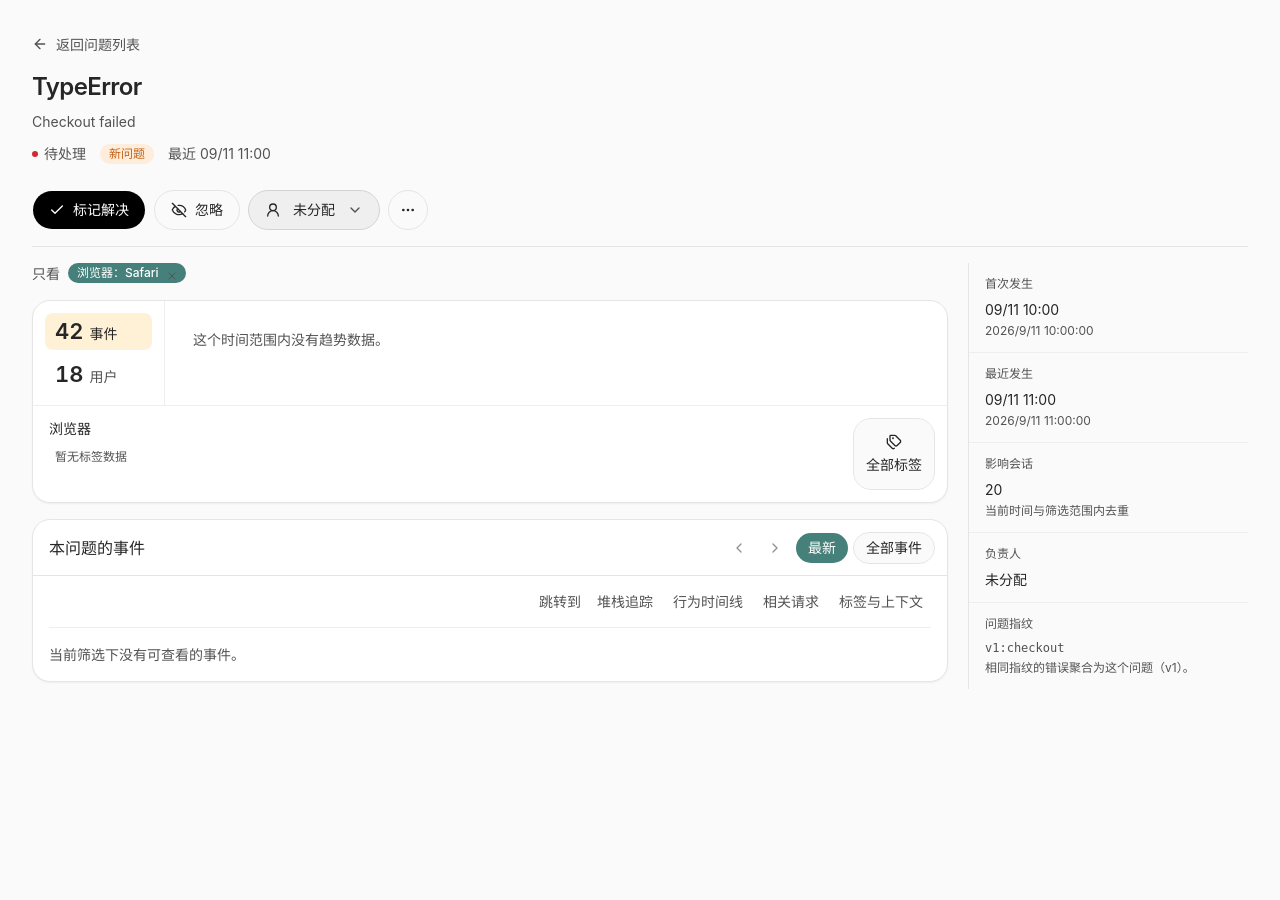
issue investigation context › rolls back a failed status mutation and allows retry
Click the button "标记解决".
click(89, 210)  # box [32,190,146,230]
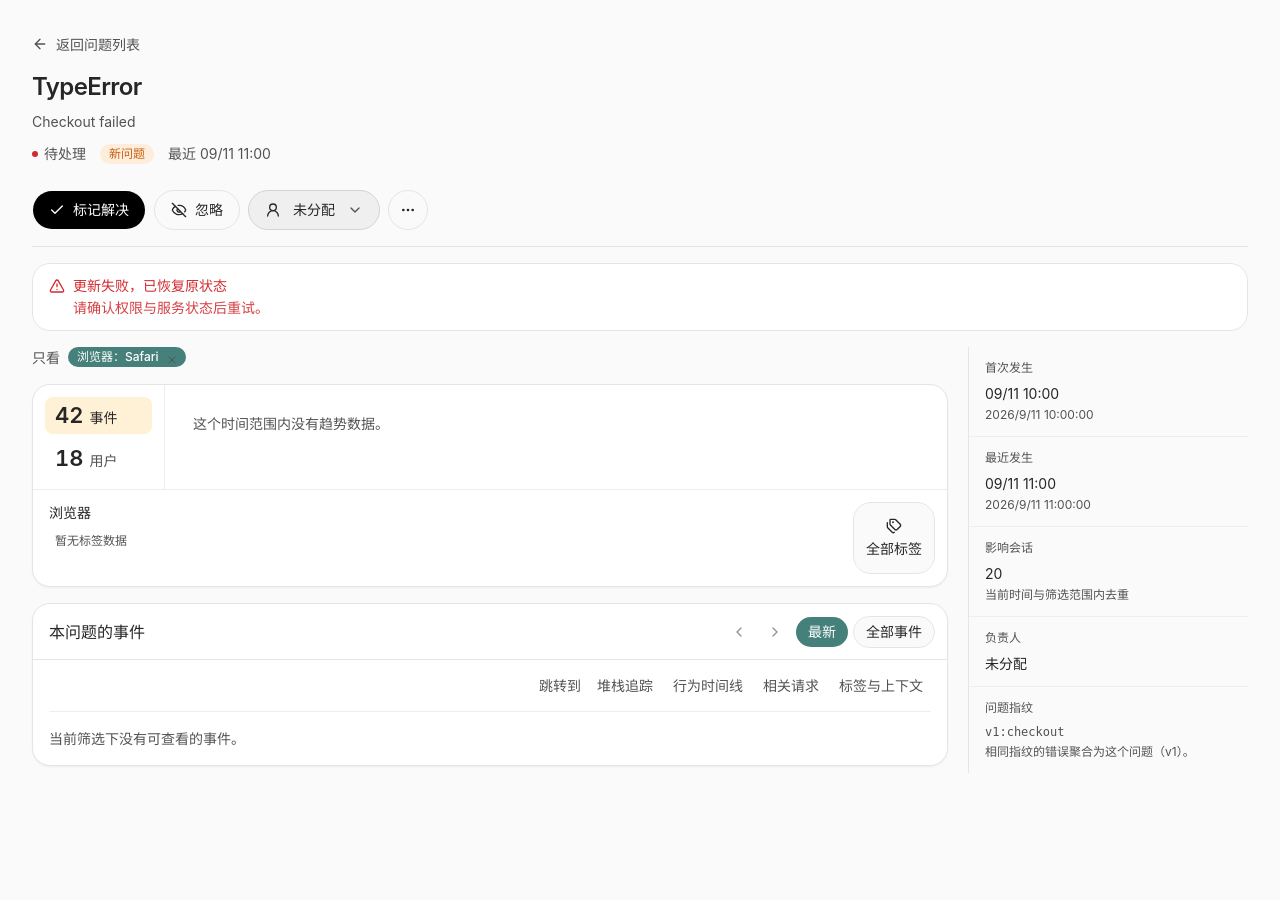
Expected: the text "待处理" is shown, [32,142,86,166]
Expected: the text "更新失败，已恢复原状态" is shown, [73,277,227,294]
